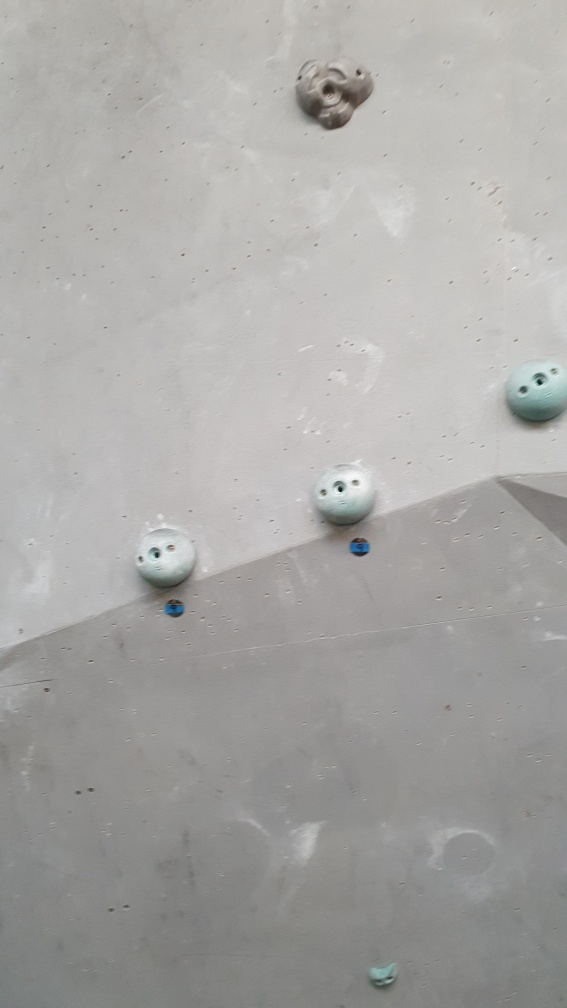Hand Start: (347, 532, 372, 562), (163, 597, 190, 622)
Jug: (288, 55, 378, 136)
Sloper: (130, 522, 201, 591), (309, 459, 378, 528), (499, 357, 567, 426)
